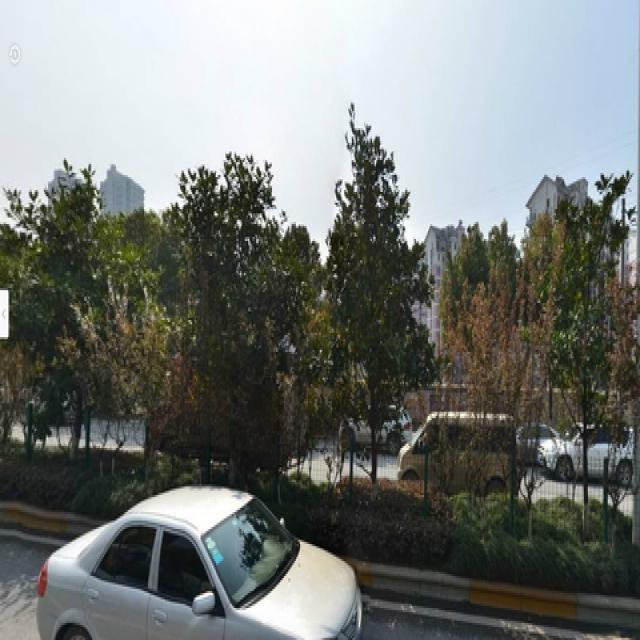magn: (332, 104, 420, 458)
